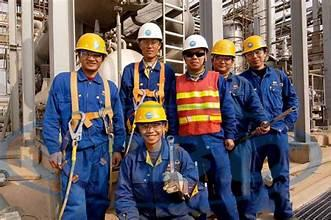Gloves: (161, 169, 189, 196), (45, 151, 66, 172)
Helmet: (127, 16, 164, 66), (71, 27, 107, 70), (244, 29, 270, 74), (182, 28, 207, 74), (211, 29, 236, 73), (133, 99, 169, 128)
Person: (40, 15, 120, 220), (248, 26, 314, 219), (208, 36, 250, 216), (119, 101, 181, 220), (178, 30, 211, 217), (124, 15, 176, 114), (305, 25, 306, 26)
Safety Vest: (178, 74, 221, 136)
bare-arms: (255, 121, 273, 139), (222, 134, 238, 153), (111, 150, 123, 169)
no-vest: (42, 70, 117, 158), (122, 142, 195, 212), (251, 68, 298, 134), (125, 64, 172, 101)
